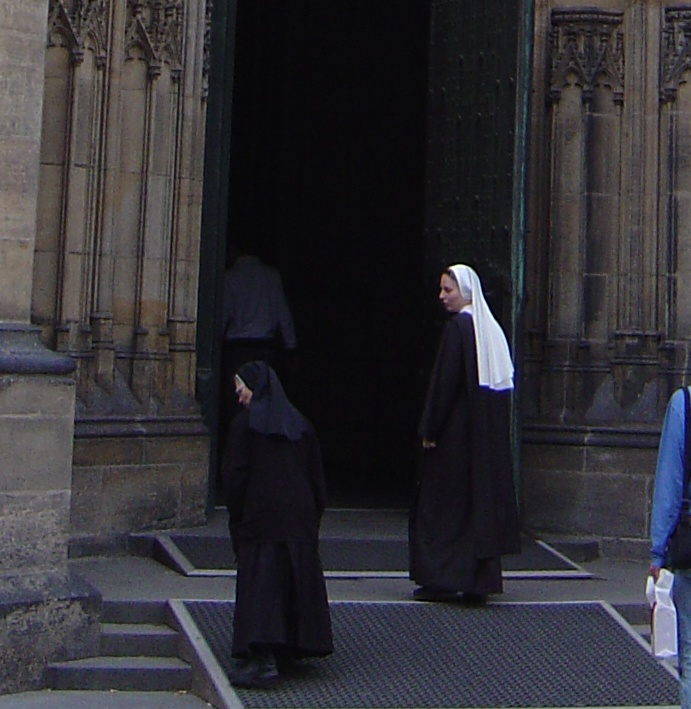person: (220, 359, 335, 689), (418, 263, 515, 600)
